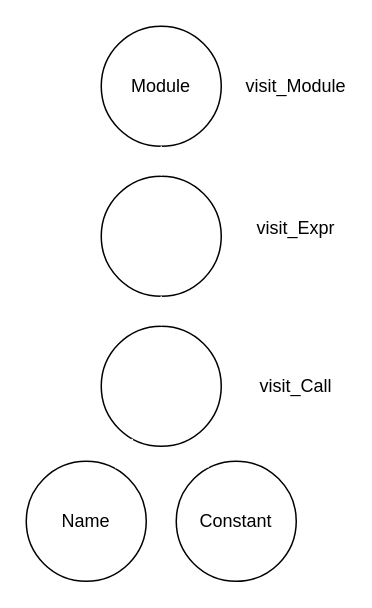
The diagram is 372 pixels wide and 608 high, and some of its shapes have lost their labels. The shapes that lost their labels are listed below. From the top down, each one's box as (x1, y1, x2, y2) in pixels, then its label:
(100, 175, 221, 296): Expr
(100, 325, 221, 446): Call
